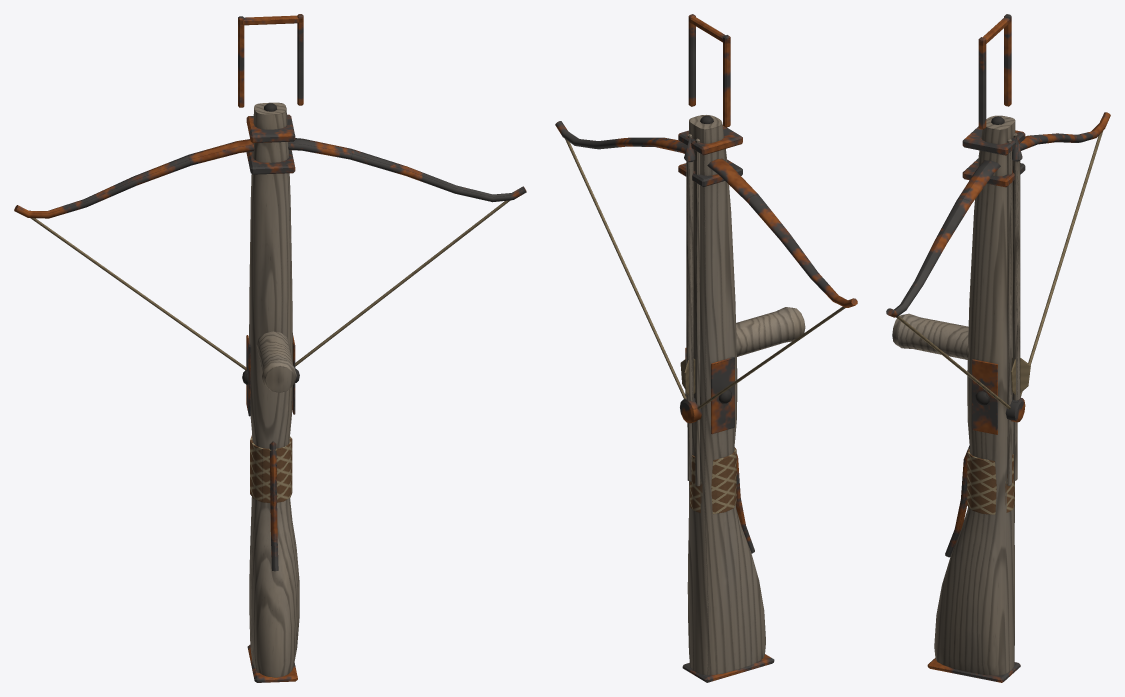
File: w_crossbow_t1.glb
3 renders of one model, left to right at view 1: azimuth 30°, elevation 25°; view 2: azimuth 150°, elevation 25°; view 3: azimuth 270°, elevation 25°, orthographic.
Parts seen in each view (by area): view 1: w_crossbow; view 2: w_crossbow; view 3: w_crossbow.
Boxes of the visible parts, x1,y1,x2,y2 form: w_crossbow: [14, 14, 526, 682]; w_crossbow: [555, 14, 857, 682]; w_crossbow: [886, 14, 1110, 682].
Bounding box in the file's own units: 37.72 × 56.95 × 17.96.
1 material, 1 textured.
